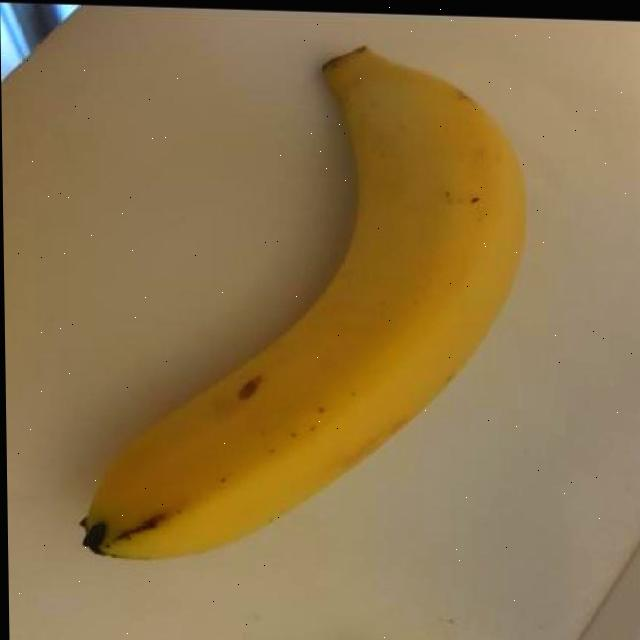banana: (55, 36, 546, 576)
